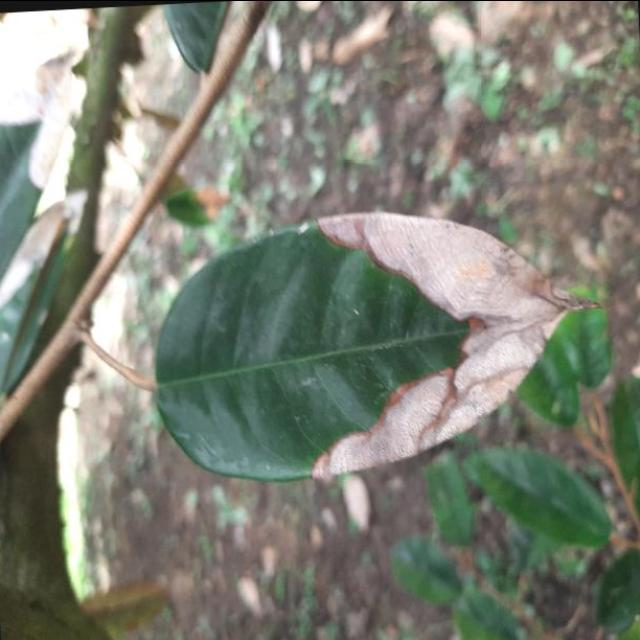Leaf Blight: (130, 188, 618, 496)
